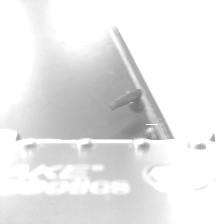Door Handle: (108, 88, 146, 116)
Lock: (146, 124, 158, 139)
